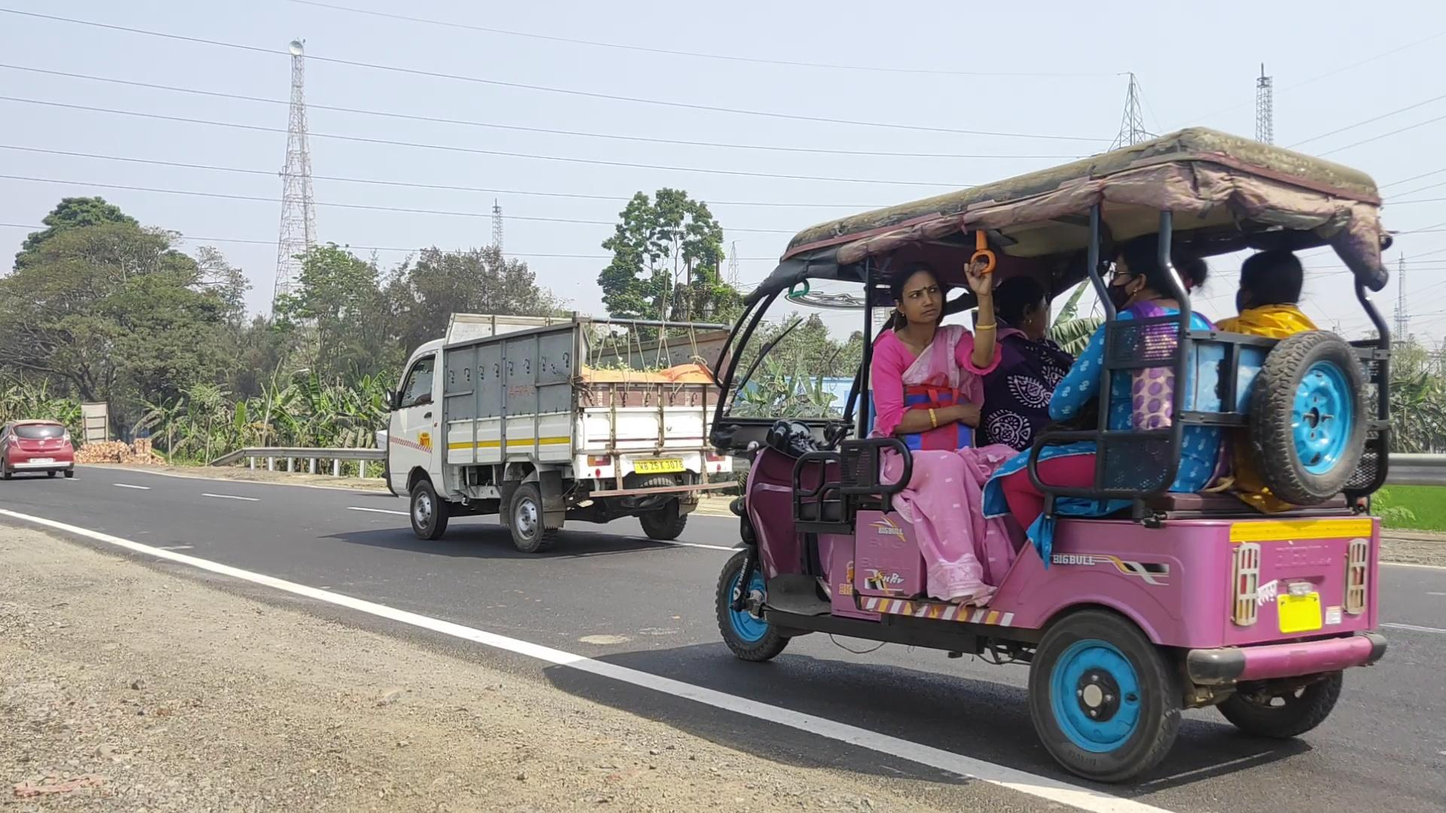Auto: (711, 128, 1390, 784)
car: (1, 419, 75, 479)
van: (381, 311, 734, 553)
